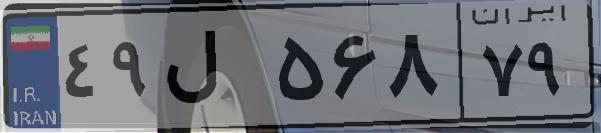4: (57, 26, 110, 100)
5: (270, 28, 330, 110)
6: (330, 28, 385, 110)
7: (475, 38, 525, 113)
8: (385, 28, 445, 110)
9: (525, 38, 570, 115), (110, 28, 158, 98)
ل: (158, 20, 270, 120)
